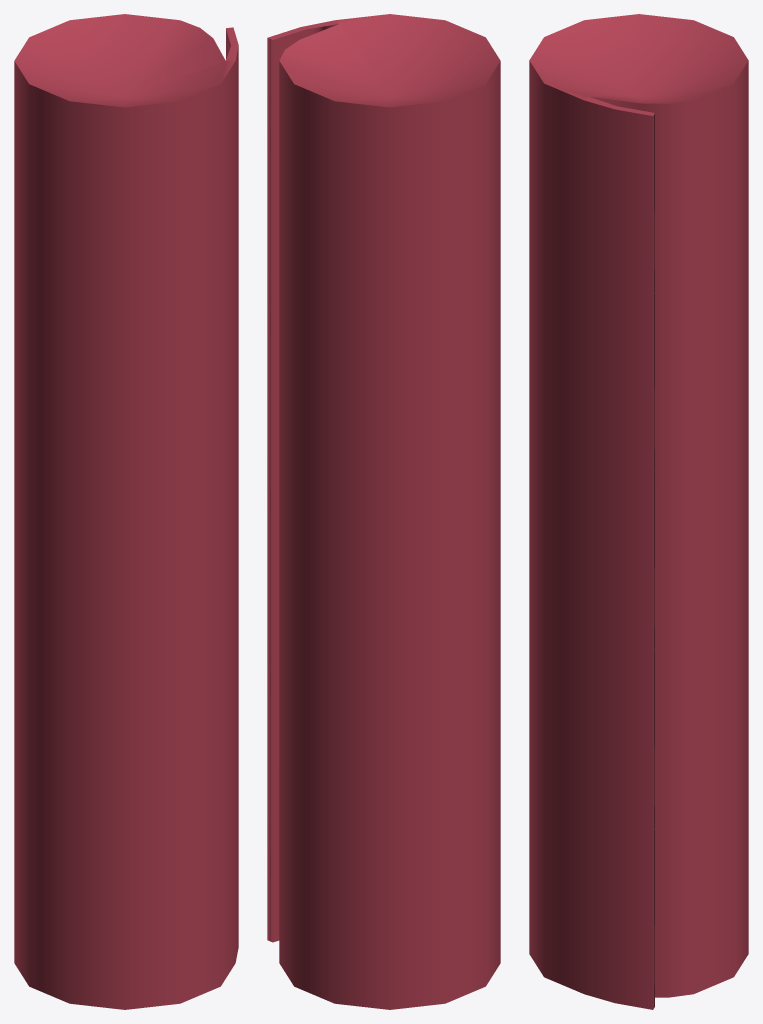
File: carpet_03.fbx
The picture shows the model from 3 angles, left to right: view 1: azimuth 30°, elevation 25°; view 2: azimuth 150°, elevation 25°; view 3: azimuth 270°, elevation 25°; orthographic projection.
Parts seen in each view (by area): view 1: pCylinder33; view 2: pCylinder33; view 3: pCylinder33.
Part boxes in pixels (x1,y1,x2,y2): pCylinder33: (14, 14, 238, 1009); pCylinder33: (267, 14, 500, 1009); pCylinder33: (529, 14, 748, 1009).
Bounding box in the file's own units: 0.4903 × 2 × 0.4445.
